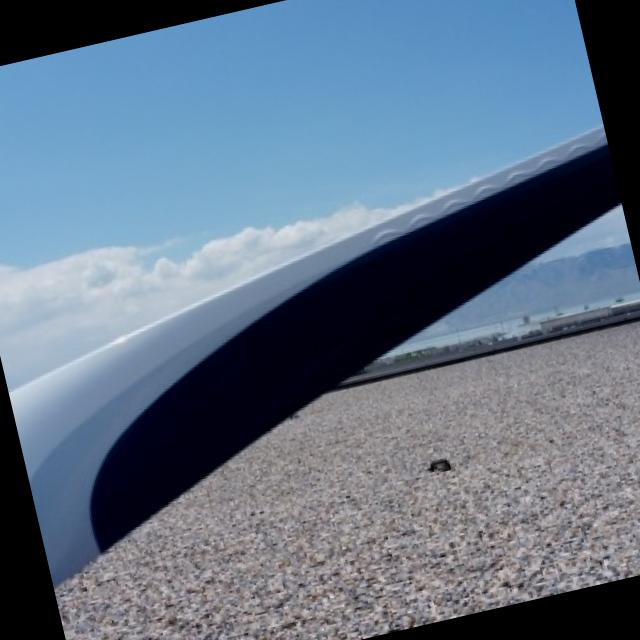healthy: (8, 124, 615, 583)
